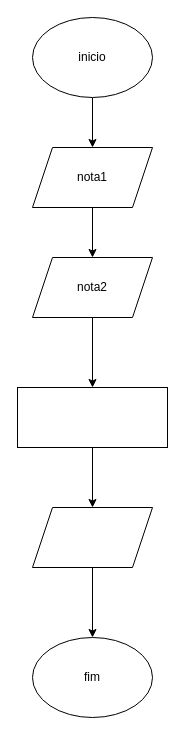
Image size: 185x735. Some labels were removed from this diagram. Each missing label, with the centre of its shape:
"media" goes at pixel 92 537.
"media=(nota1+nota2)/2" goes at pixel 92 417.
